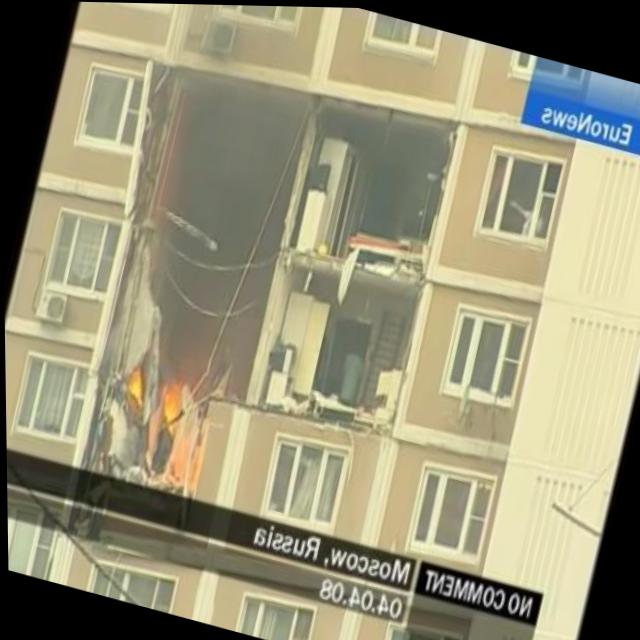fire: (146, 359, 194, 438), (117, 358, 148, 410)
